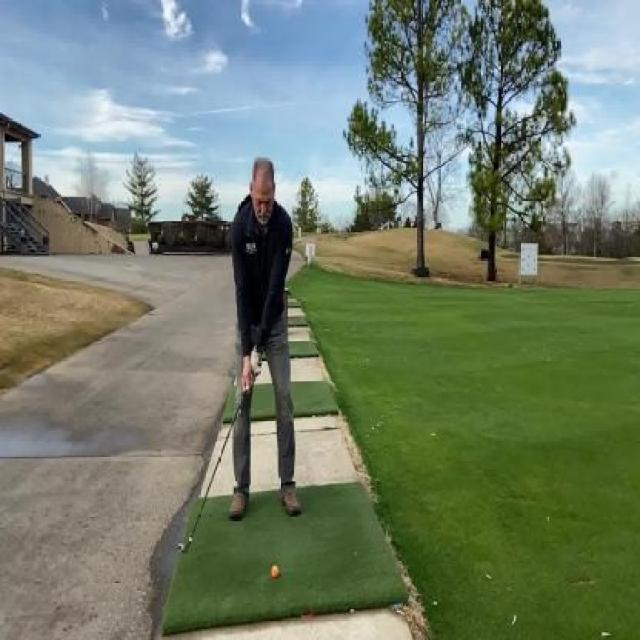club head: (177, 532, 192, 554)
